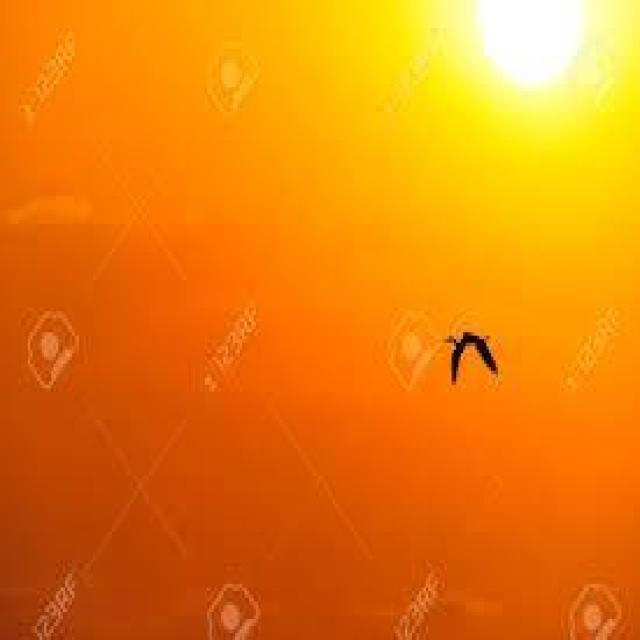bird: (444, 326, 502, 389)
